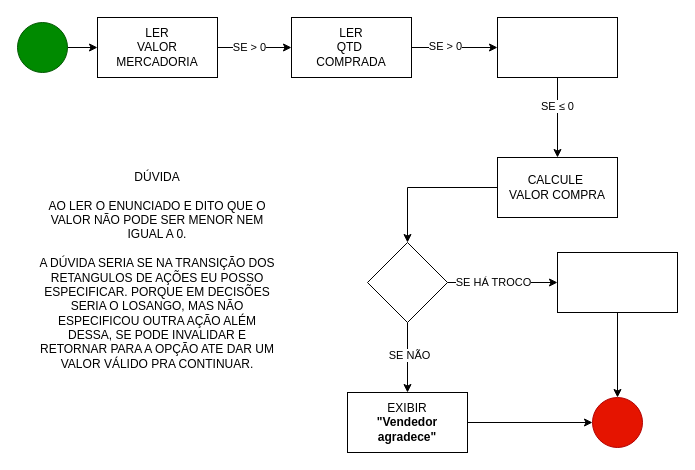
Some shapes in this 695 by 470 pixel diagram are drawn without their labels. The box of each missing label's shape, as (x1, y1, x2, y2) in pixels:
EXIBIR "Vendedor entrega troco ao usuário e agradece": (556, 252, 678, 312)
LER VALOR AO VENDEDOR: (496, 16, 618, 78)
